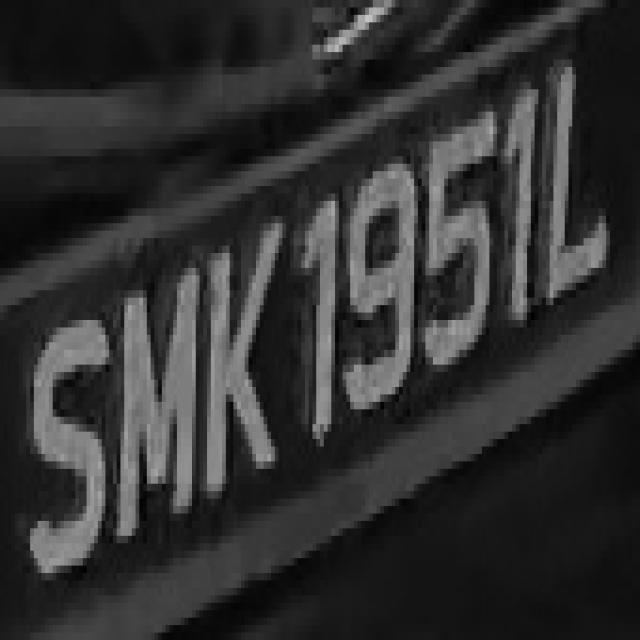1: (278, 178, 346, 468), (489, 82, 538, 365)
5: (418, 112, 497, 394)
9: (346, 141, 411, 469)
K: (188, 224, 279, 514)
L: (538, 38, 618, 328)
M: (113, 246, 203, 543)
S: (15, 283, 121, 610)
